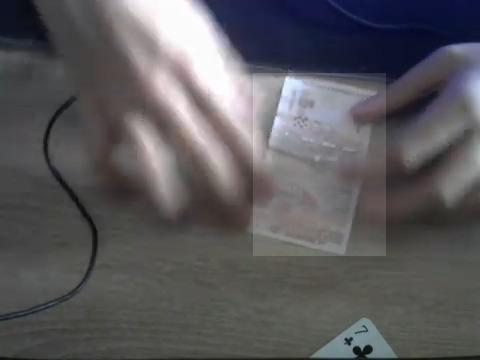5leva: (253, 73, 386, 256)
